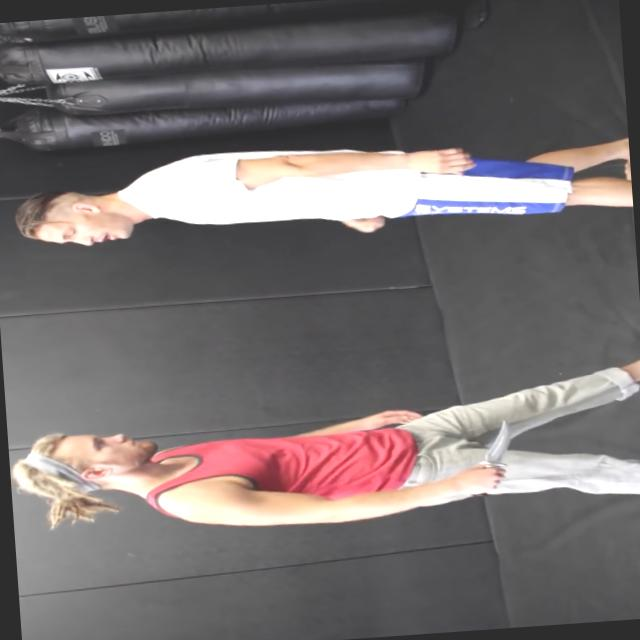knife: (454, 413, 520, 506)
